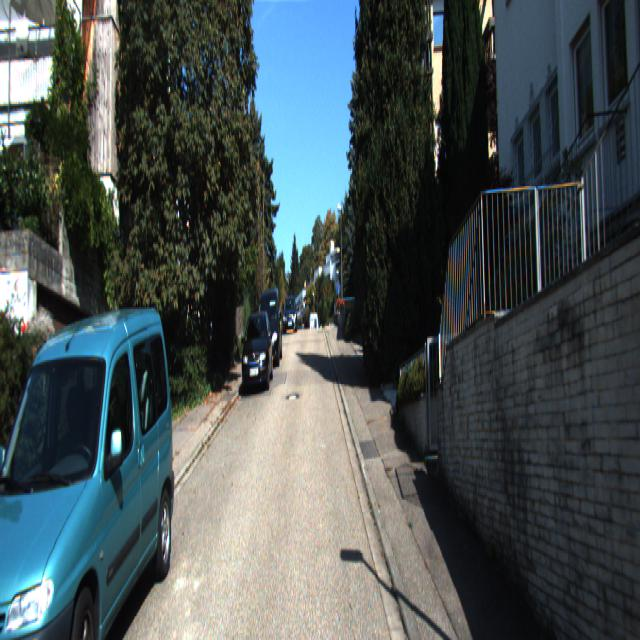Car: (0, 297, 178, 638), (240, 312, 274, 394), (254, 286, 282, 368), (282, 295, 298, 336)
